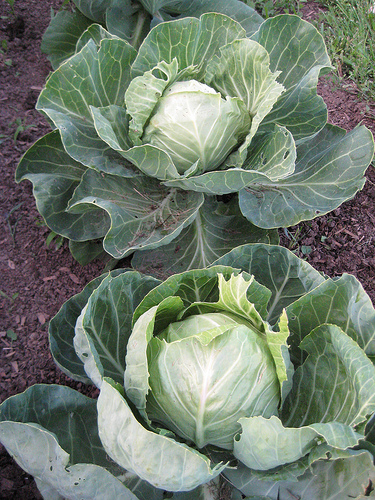cabbage: (0, 242, 373, 498), (15, 15, 373, 278), (125, 271, 308, 455)
